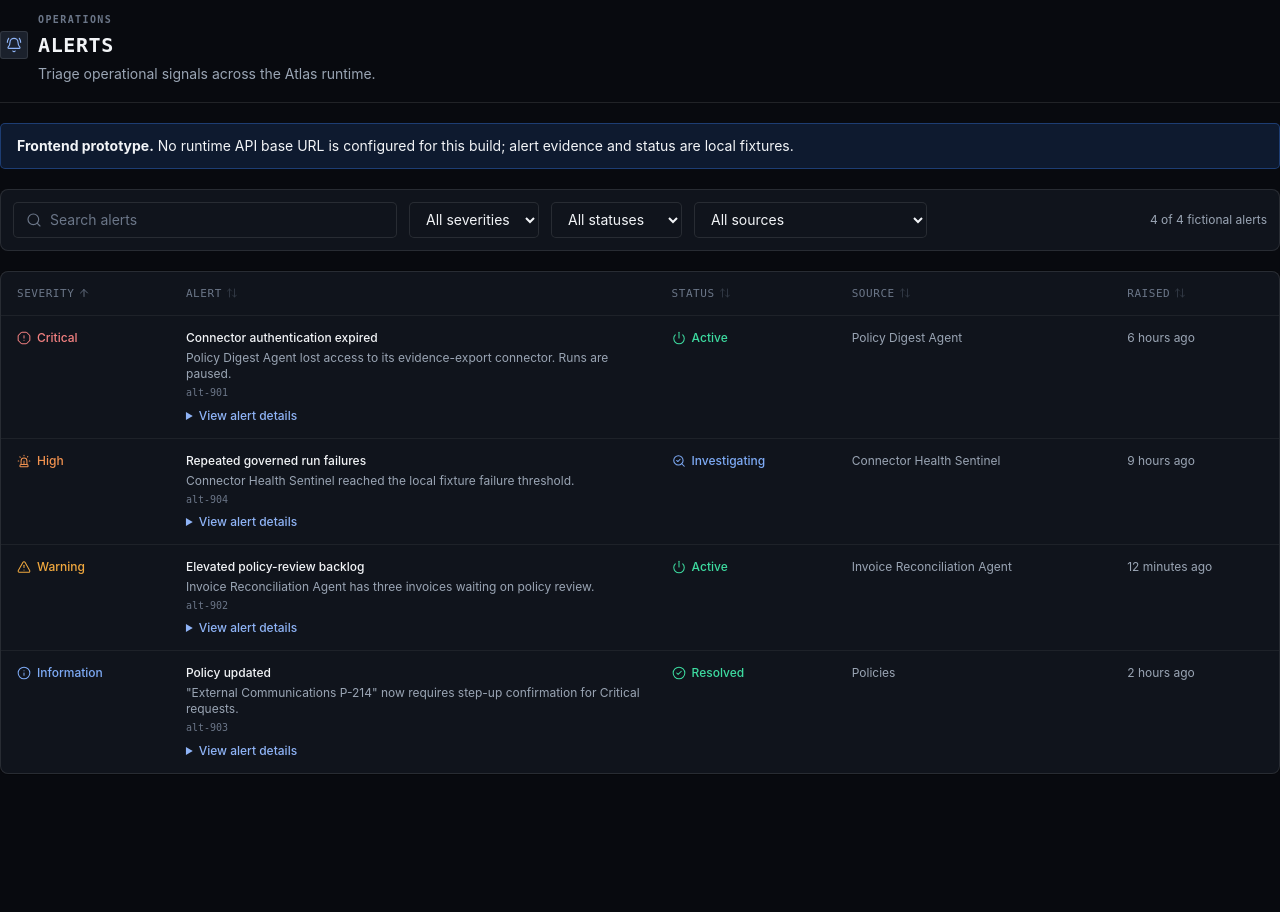
Test case: AlertsWorkspace › filters deterministic local alerts and exposes a semantic sortable inventory
expect the table named "Alerts inventory" is shown: met, box [1,272,1279,773]
Select "Critical" in the 1st dropdown named "Severity". click: (474, 220)
box: [409,202,539,238]
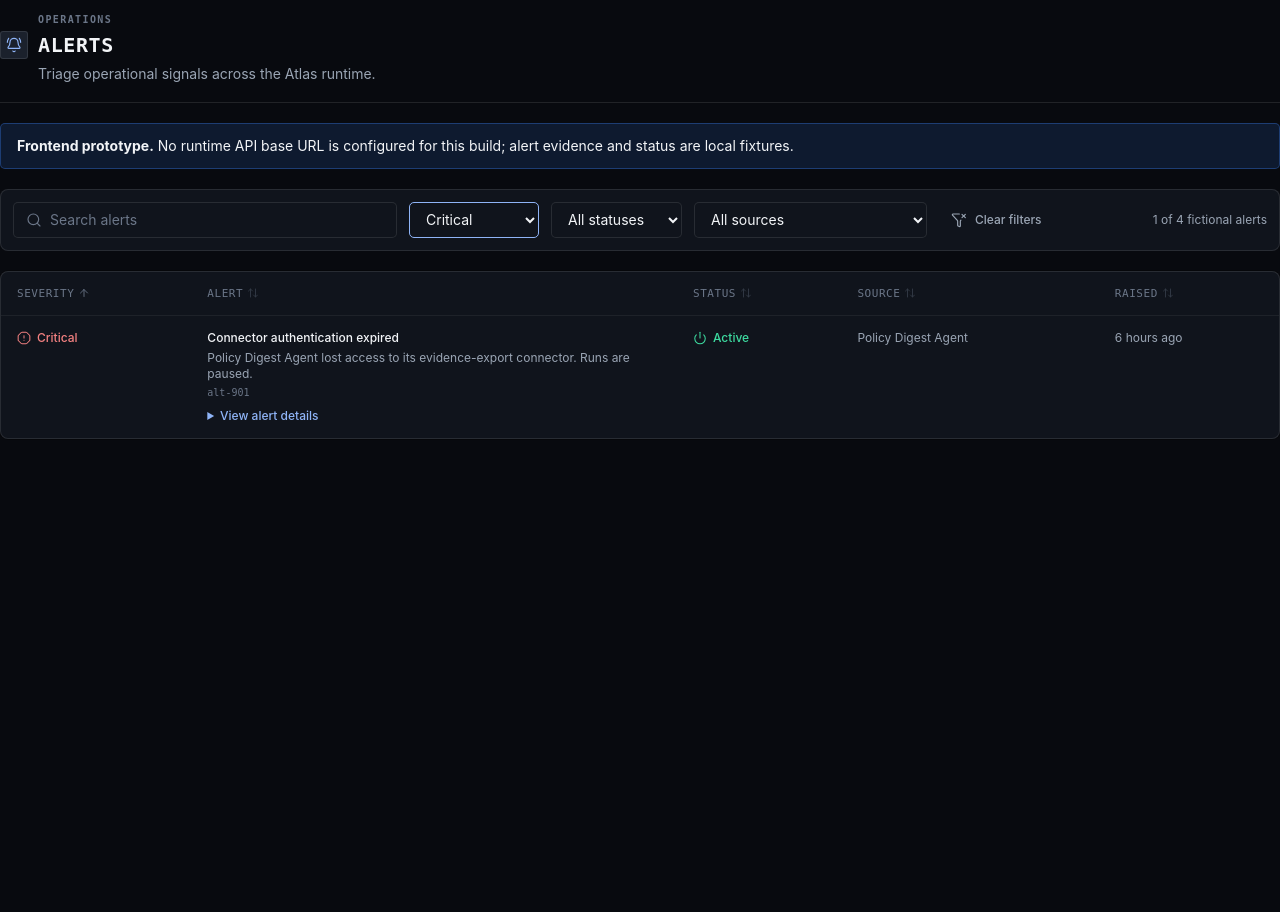
Select "Active" in the 2nd dropdown named "Status". click: (616, 220)
box: [551,202,682,238]
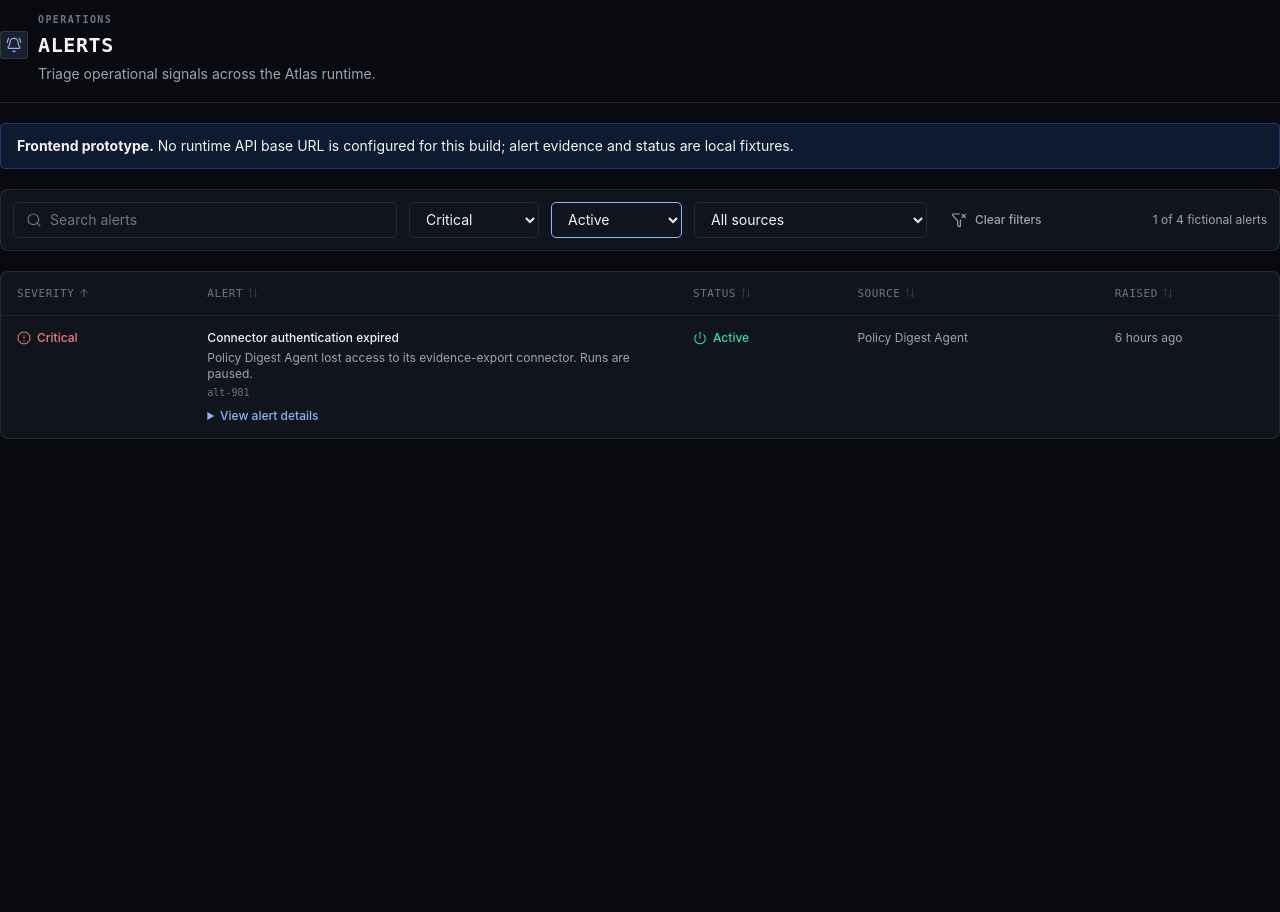
Click the button "Raised". click: (1144, 293)
box: [1115,286,1174,301]
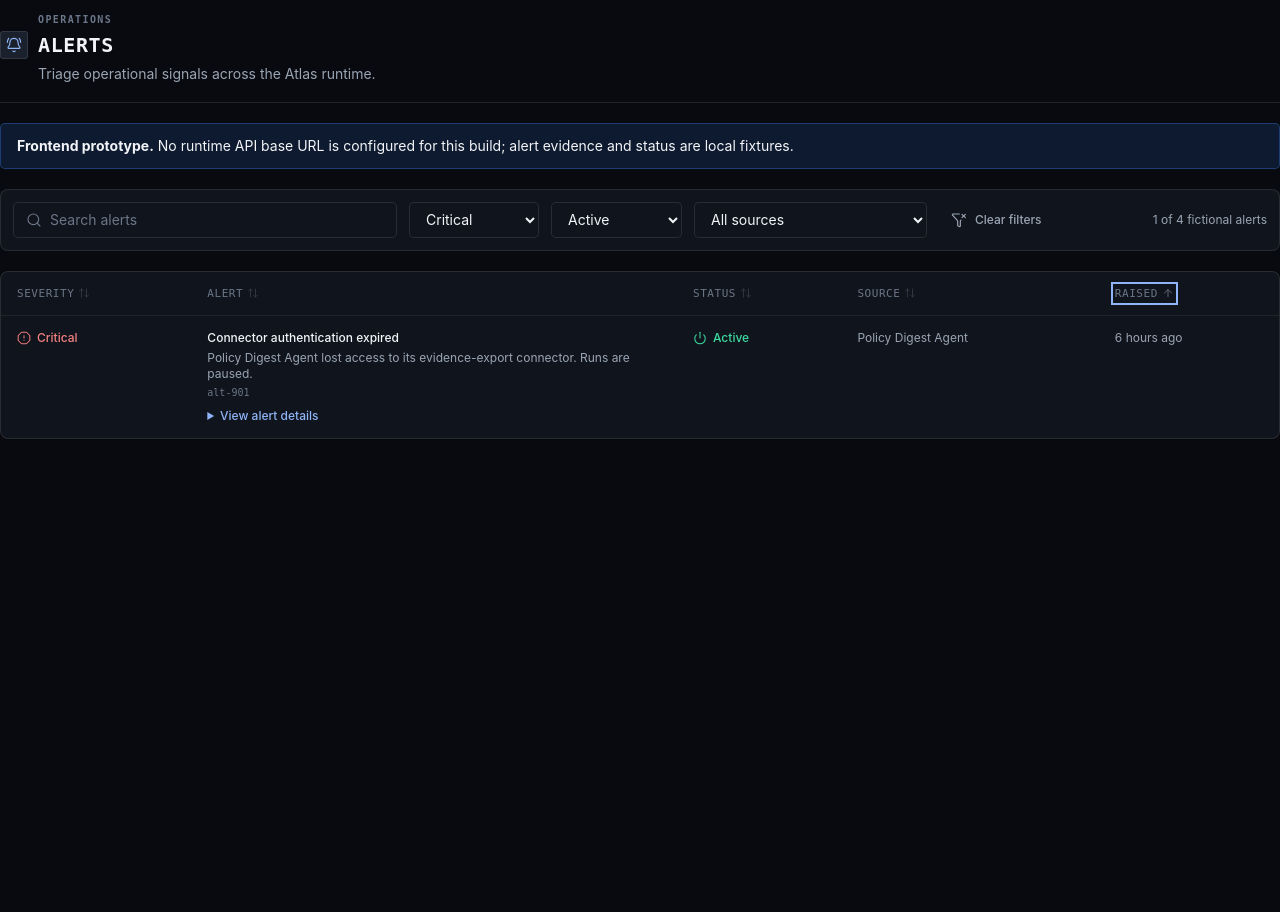
expect the column heading "Raised" has attribute aria-sort="ascending": met, box [1099,272,1279,316]
Click the button "Clear filters". click: (996, 220)
box: [939,204,1054,236]
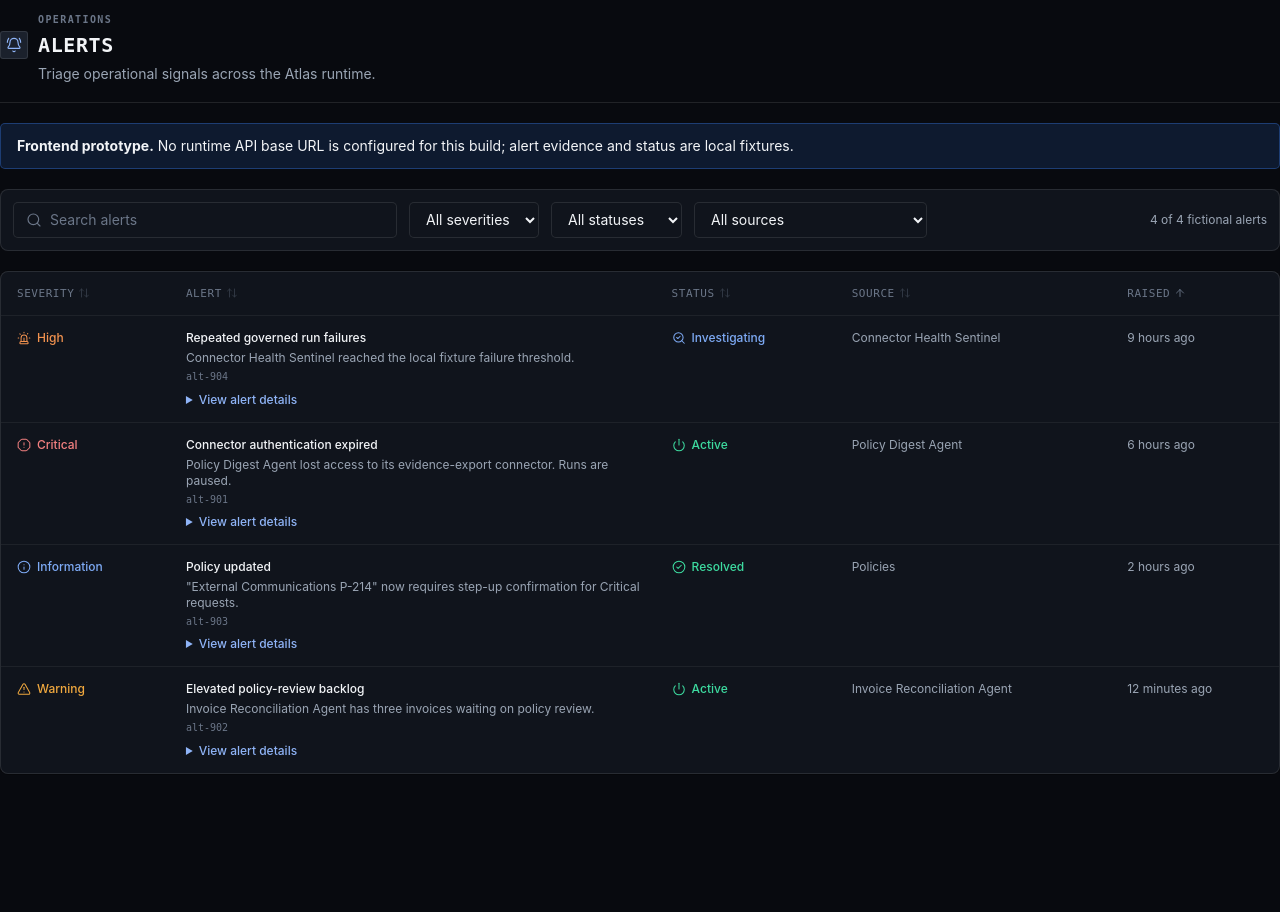
Type "no matching fixture" into the search field labelled "Search alerts". click: (217, 220)
box: [50,203,384,237]
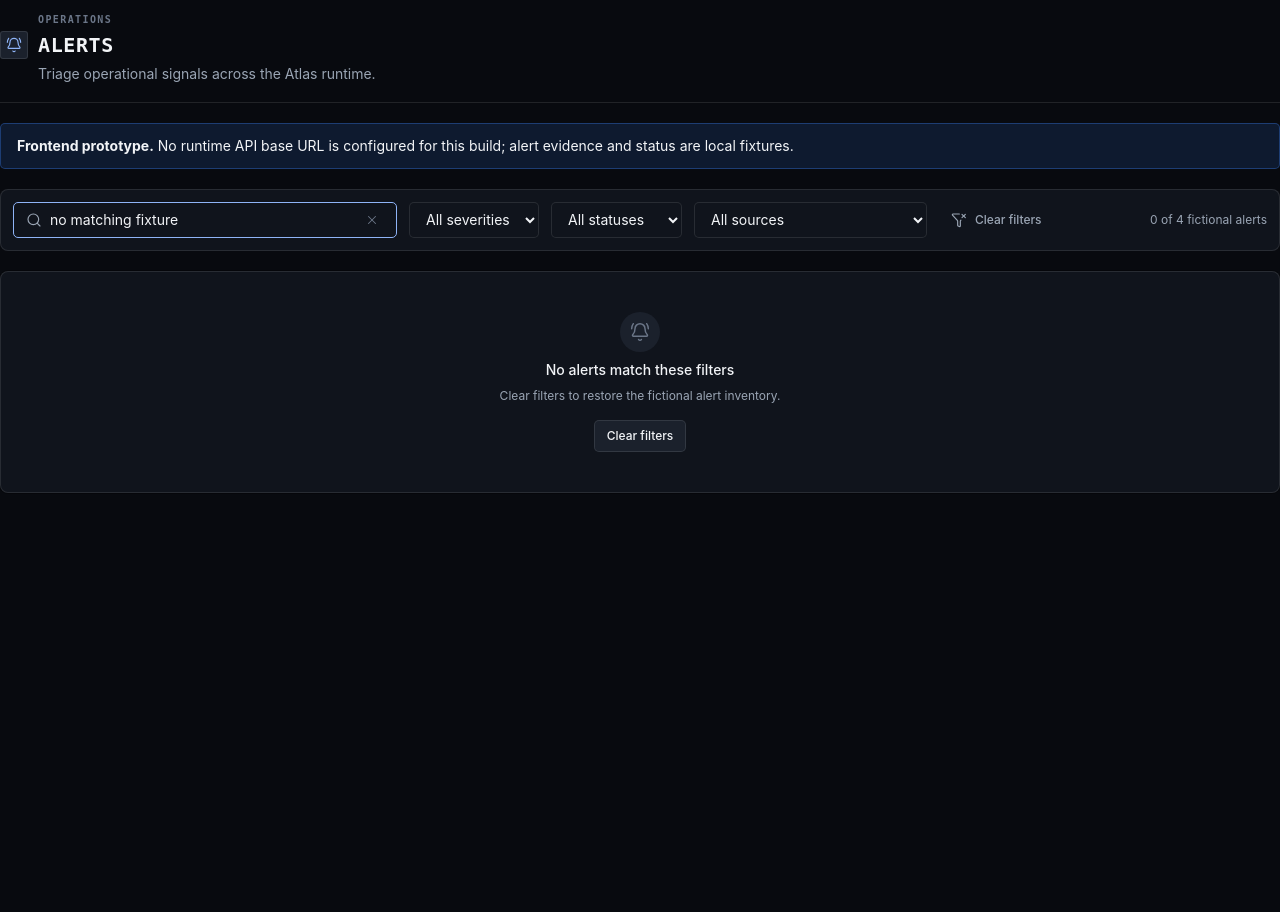
expect the text "No alerts match these filters" is shown: met, box [546,360,734,380]
